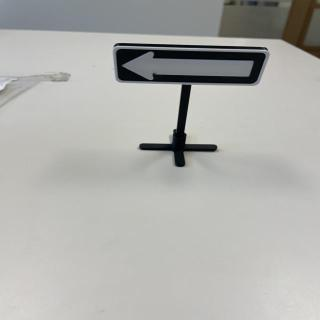sign_oneway_left: (108, 41, 272, 88)
